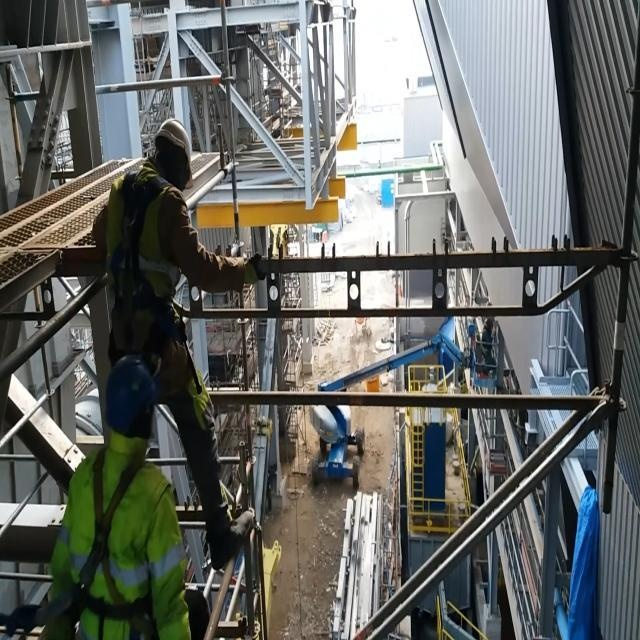Arnes_seguridad: (103, 167, 189, 408), (66, 448, 172, 640)
